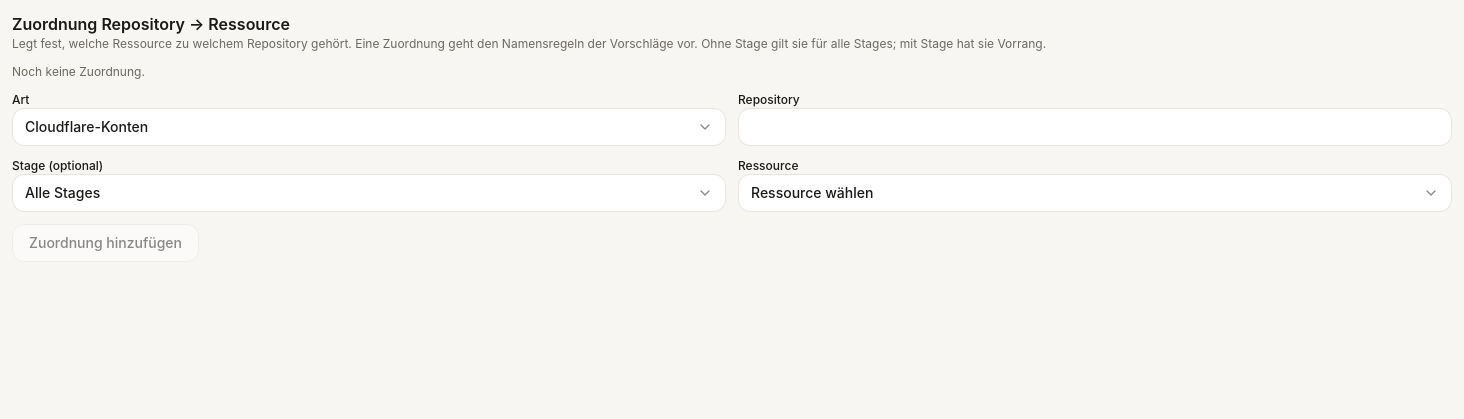
Test: ResourceMapPanel › offers a kind switch for several kinds and resets the chosen resource
Expected: the text "Noch keine Zuordnung." is shown, [12,64,145,79]
Type "web" into the dropdown labelled "Repository" at (1095, 127), box [738,108,1452,146]
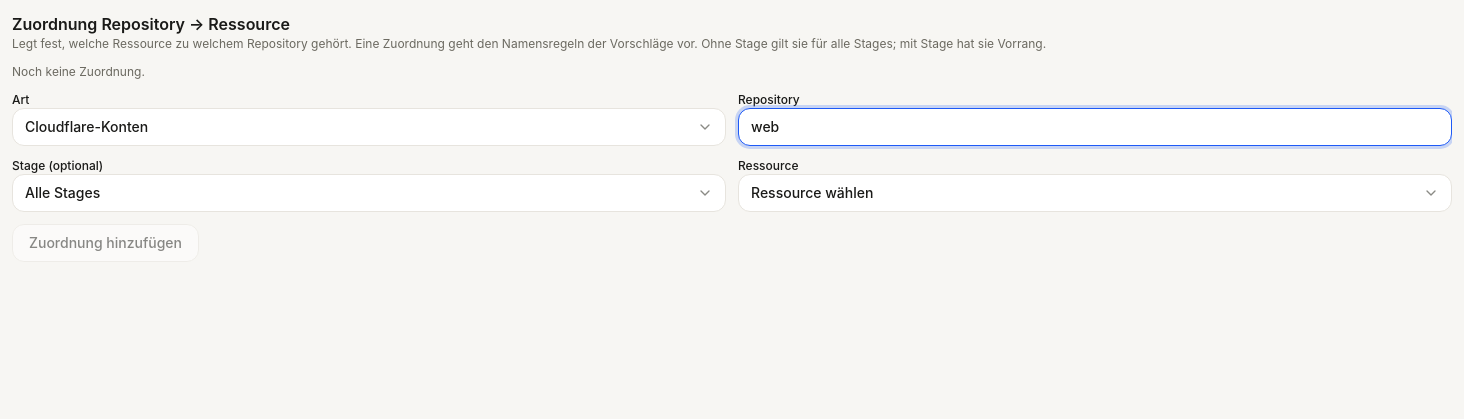
Click the dropdown labelled "Ressource" at (812, 192), box [738,174,1452,212]
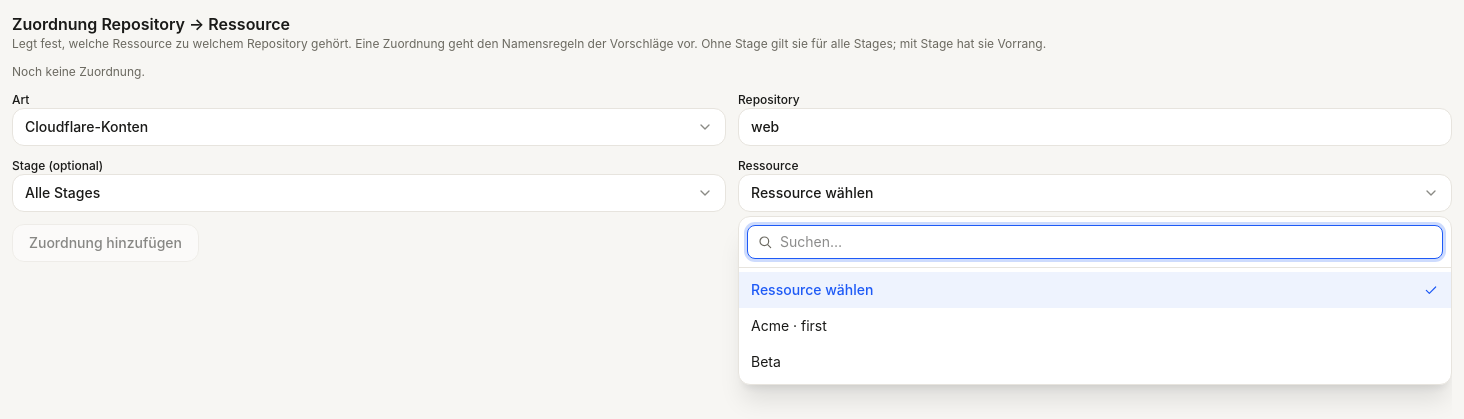
Click the option "Acme · first" at (789, 326), box [751,317,827,334]
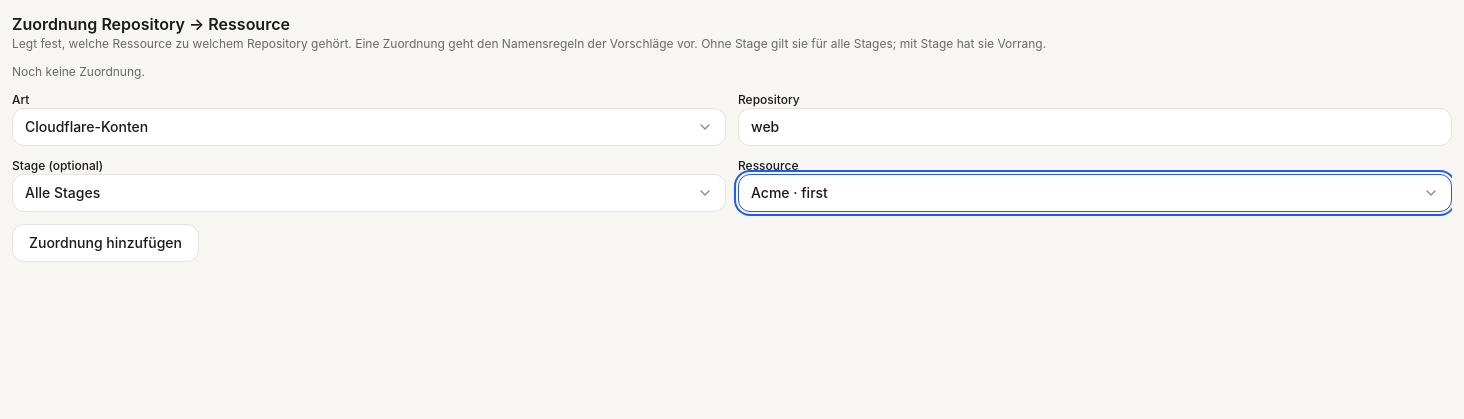
Now the button "Zuordnung hinzufügen" is enabled, box [12,224,199,262]
Click the dropdown named "Art" at (87, 126), box [12,108,726,146]
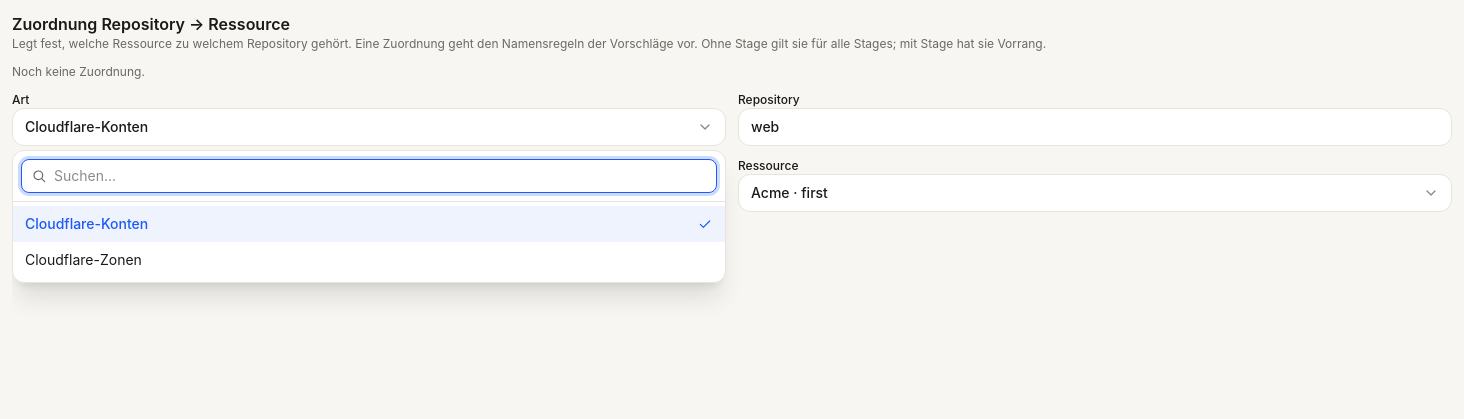
Click the option "Cloudflare-Zonen" at (83, 260), box [25,251,142,268]
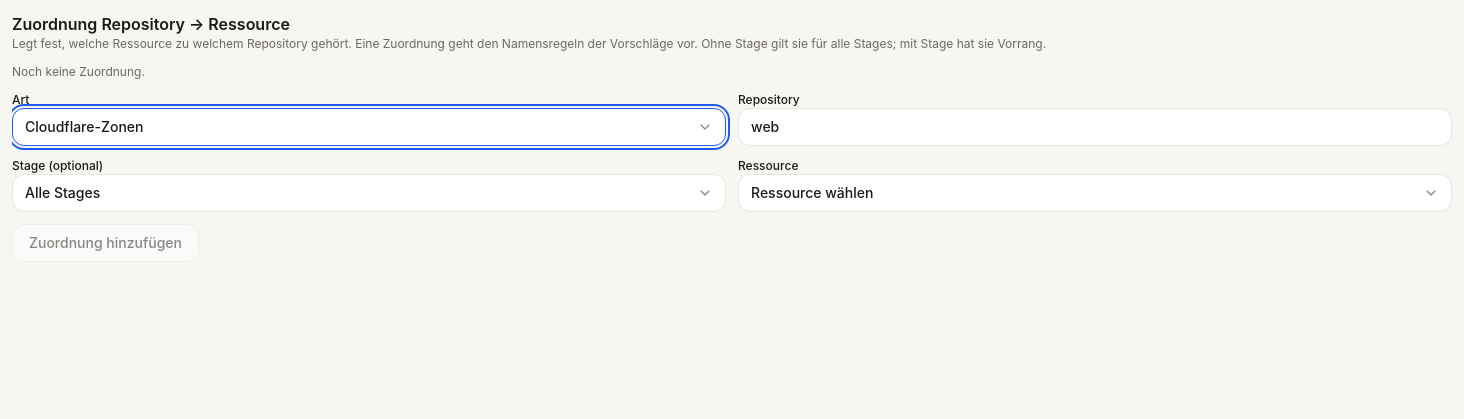
Now the button "Zuordnung hinzufügen" is disabled, box [12,224,199,262]
Click the dropdown labelled "Ressource" at (812, 192), box [738,174,1452,212]
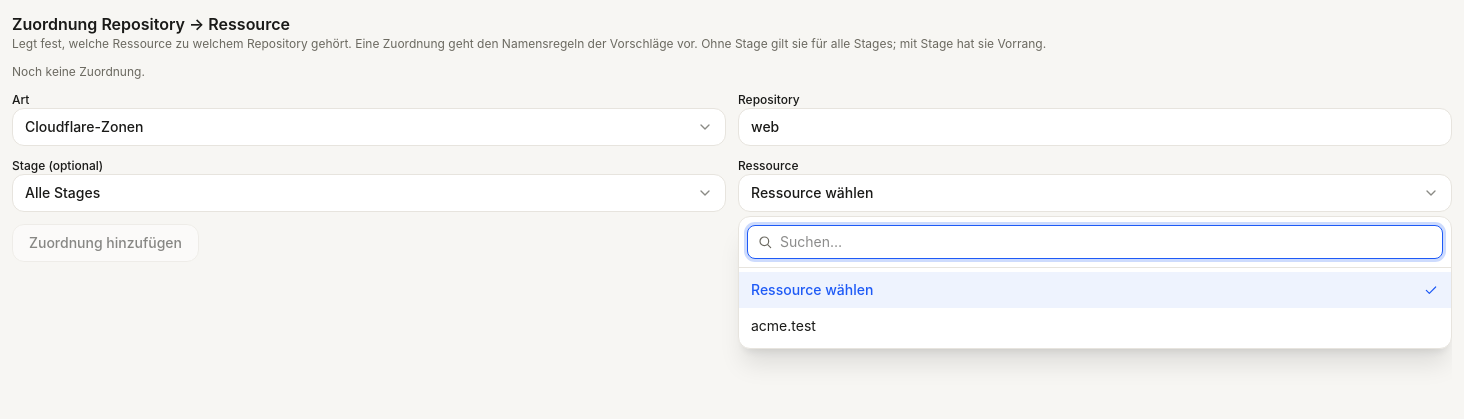
Now the option "acme.test" is shown, box [751,317,816,334]
